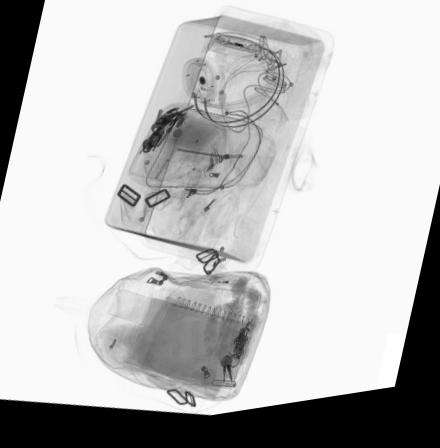Lighter: (204, 280, 248, 297)
